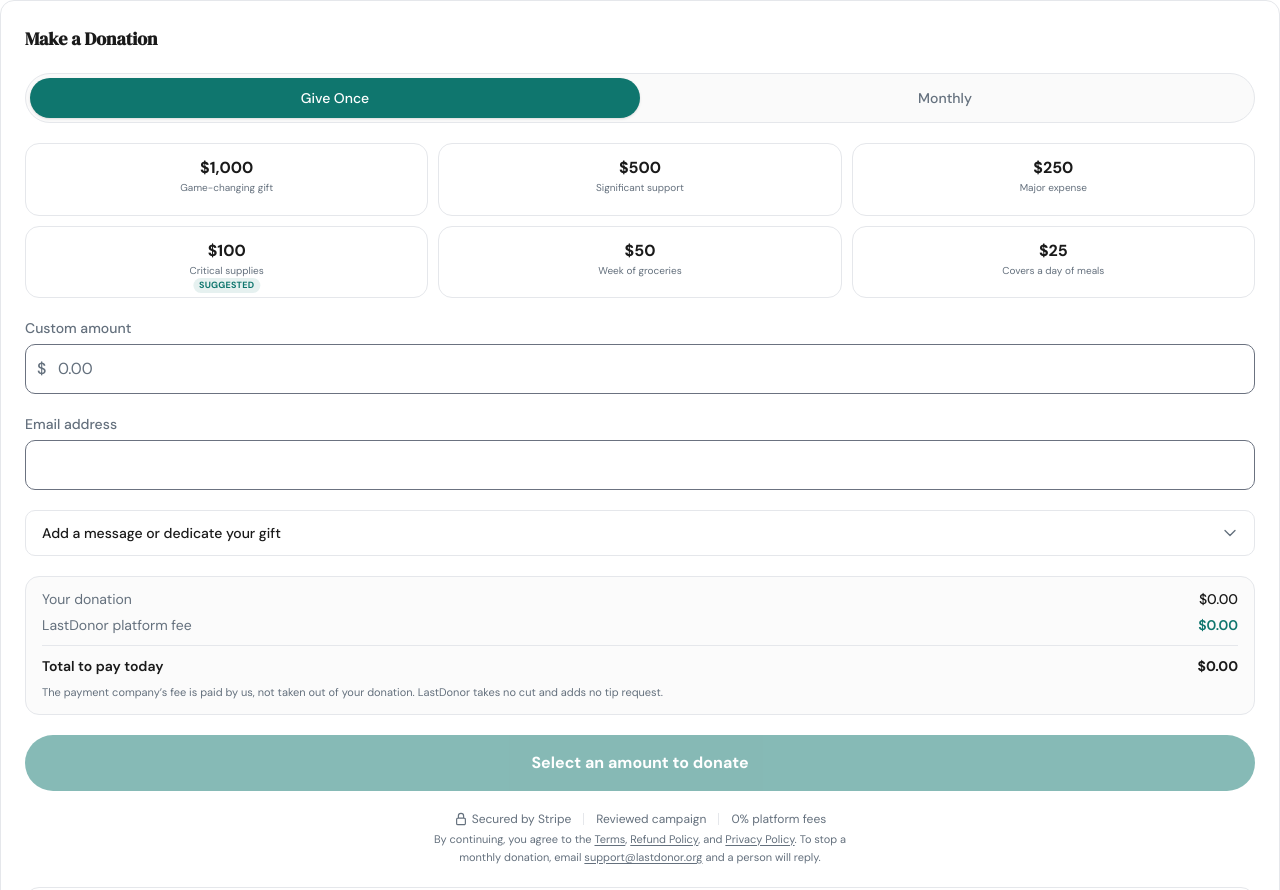
Test: DonationForm submit feedback › surfaces a field-level validation message from the API verbatim
Click the radio button labelled "$25 Covers a day of meals": (1053, 262) left=852, top=226, right=1255, bottom=298
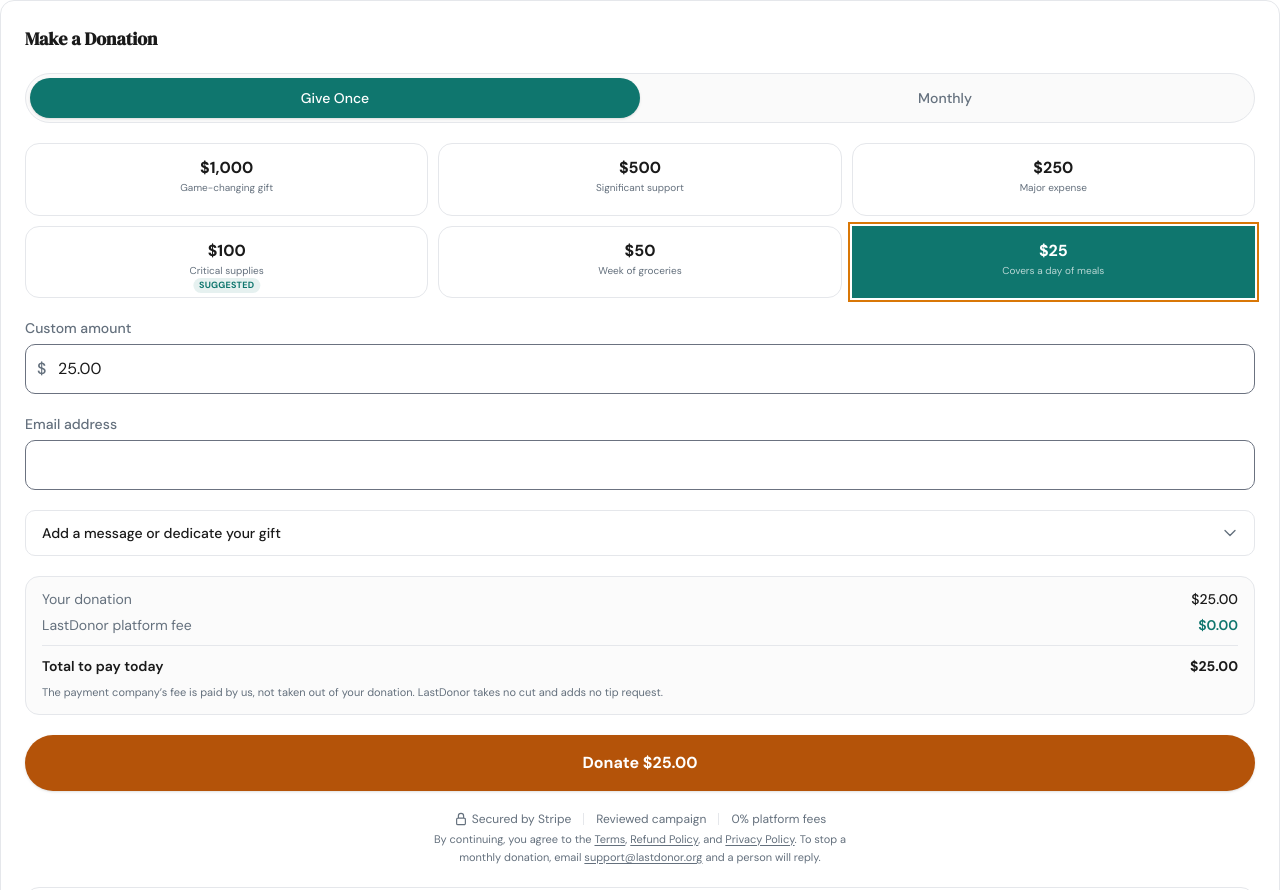
In the field labelled "Email address": (640, 465) left=25, top=440, right=1255, bottom=490, type "donor@example.com"
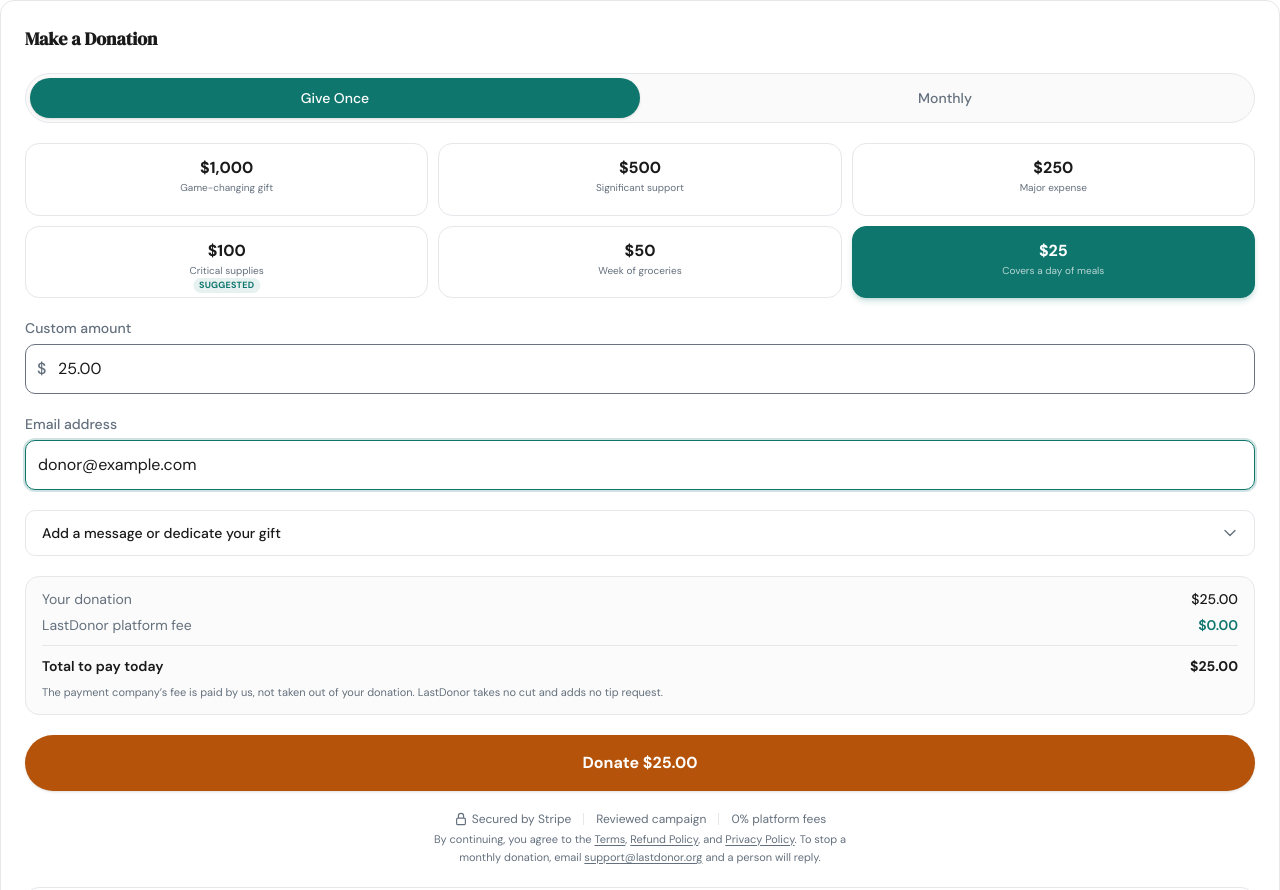
Click the button "Donate $25.00": (640, 763) left=25, top=735, right=1255, bottom=791
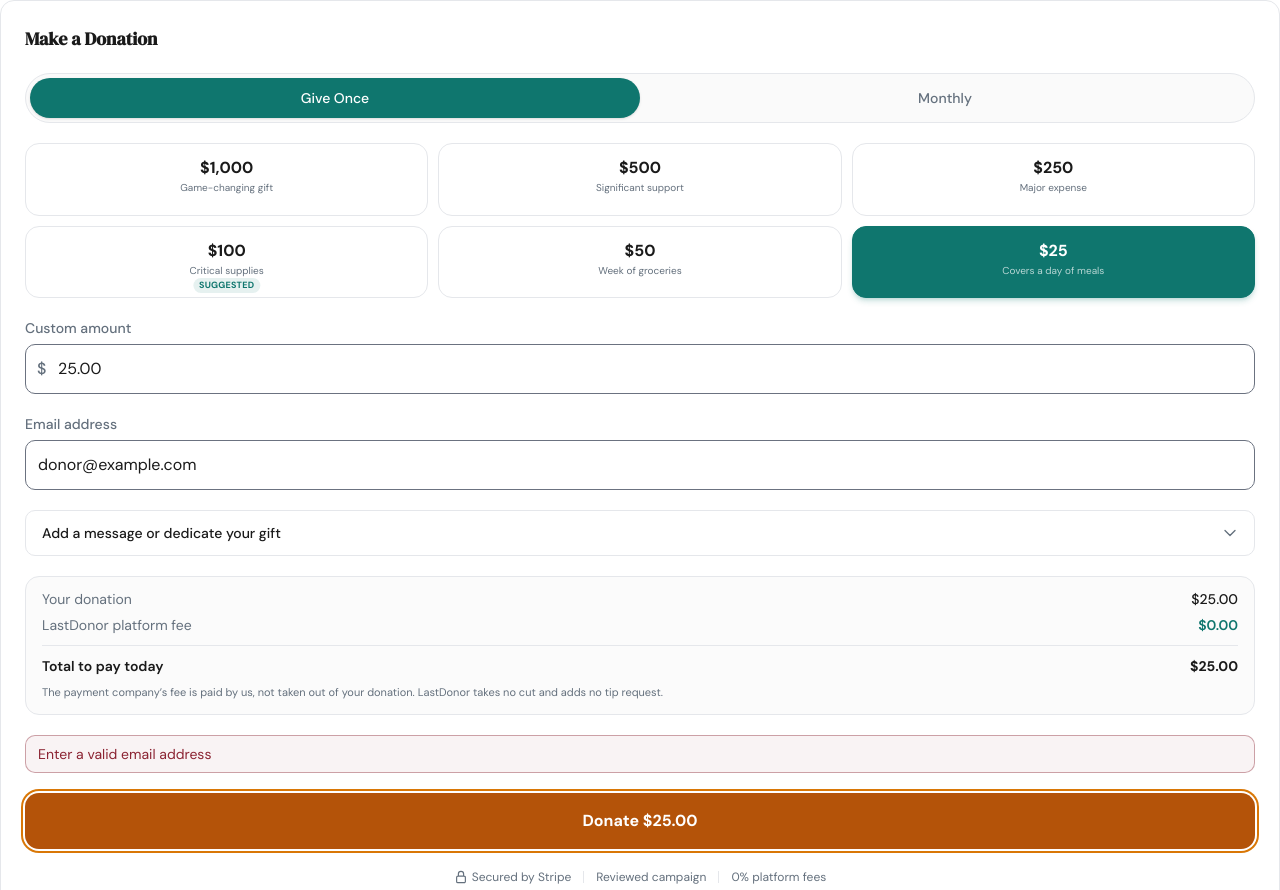
Now the message reads "Enter a valid email address", box left=38, top=745, right=211, bottom=763
